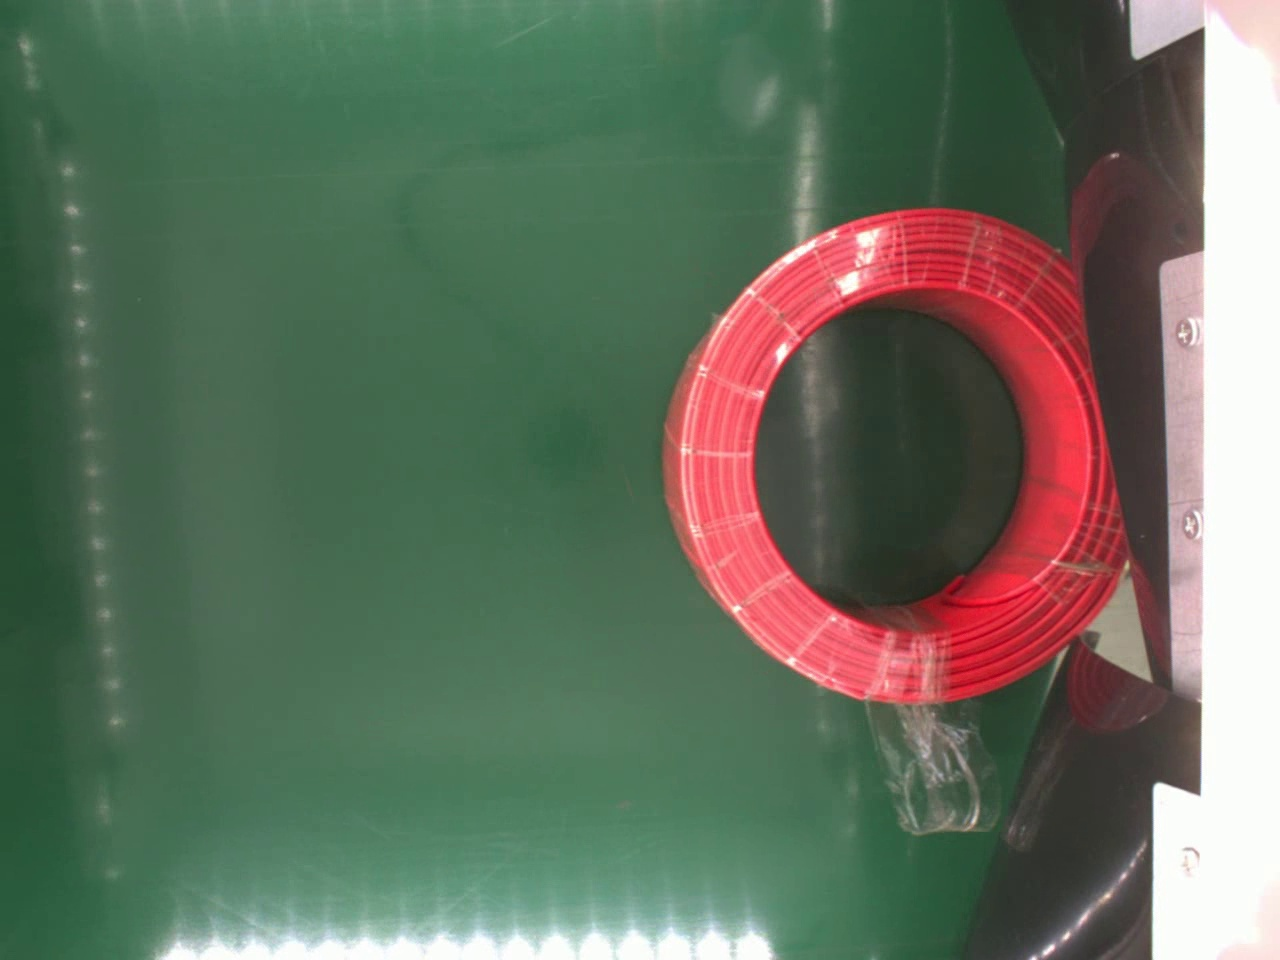red: (659, 206, 1127, 706)
